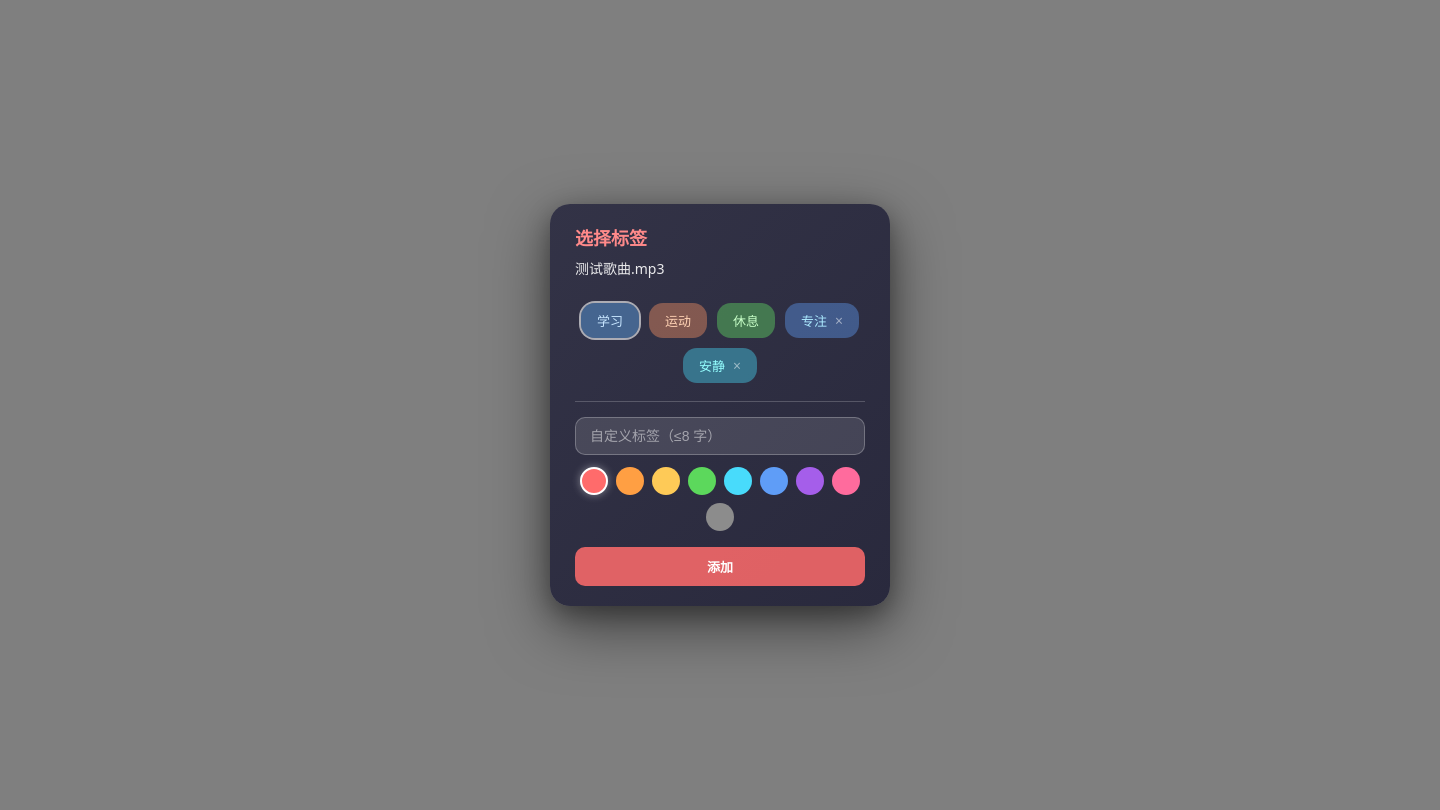
Test: MusicTagModal.vue › 自定义标签与预设/已有重名：分别给出提示
Type "学习" into the field with class "tag-custom-input".
click(720, 436); type("学习")  # box [575,417,865,455]
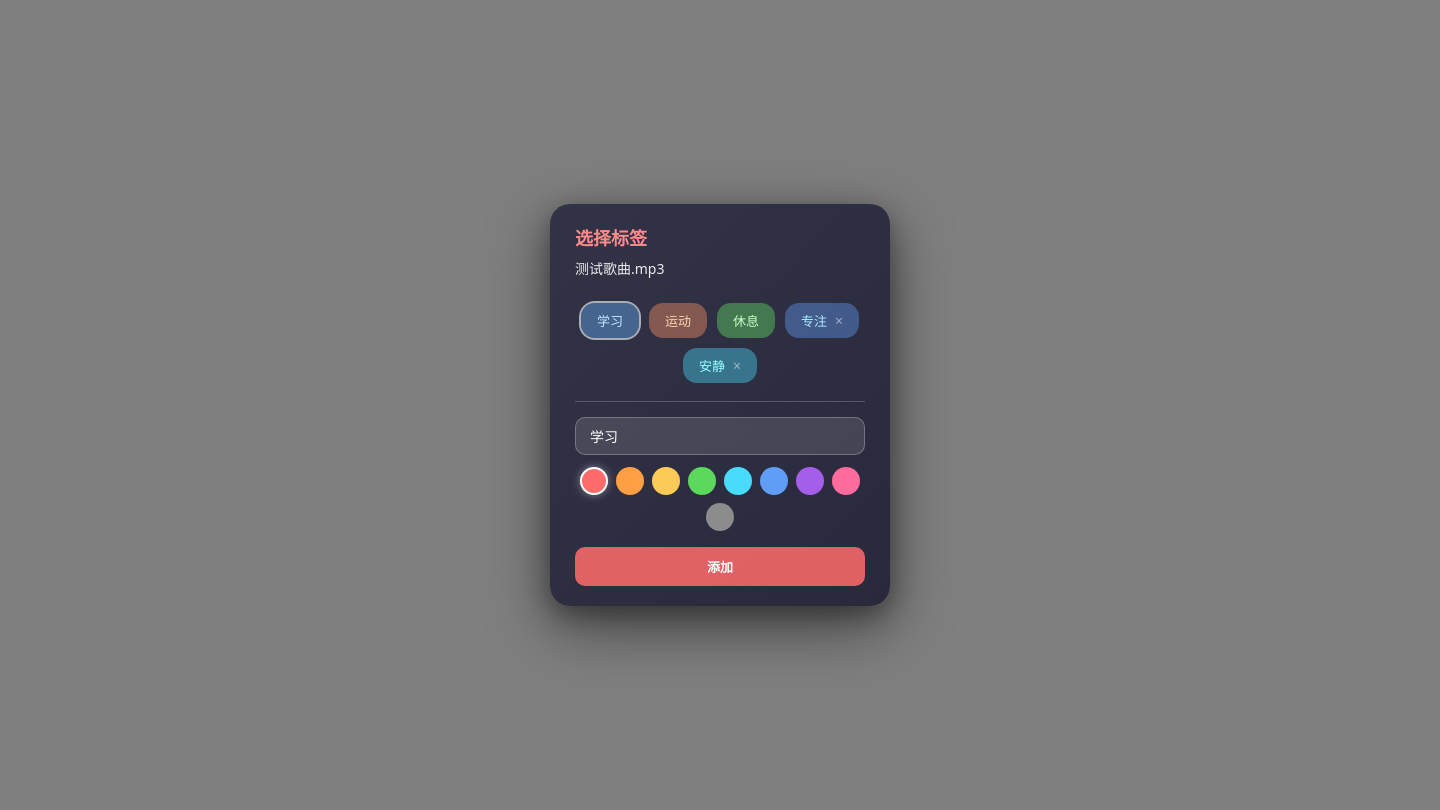
Click the button with class "tag-add-btn".
click(720, 566)  # box [575,547,865,586]
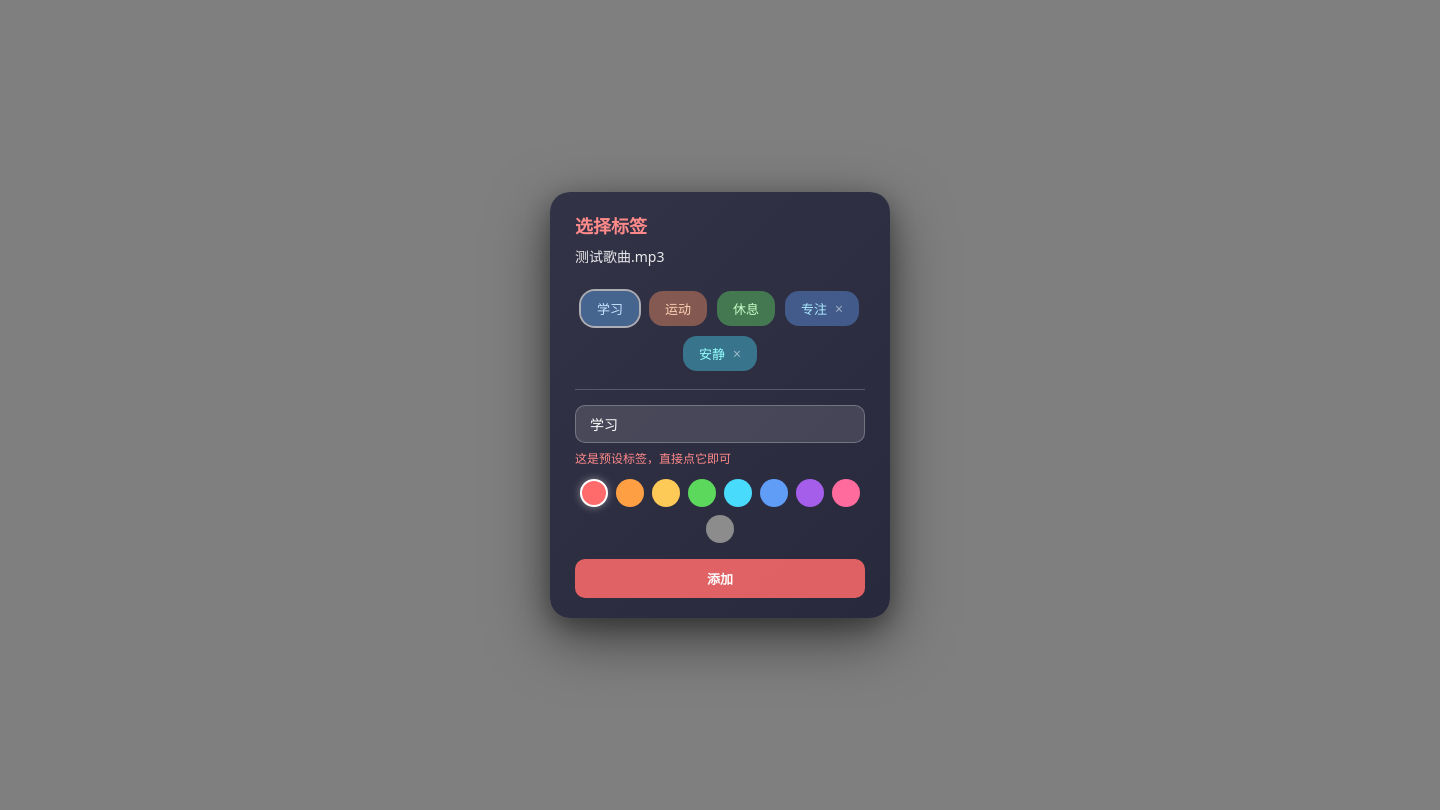
expect the text with class "tag-custom-error" shows "预设标签": met, box [575,450,731,467]
Replace the text in the field with class "tag-custom-input" with "专注" at (720, 424), box [575,405,865,443]
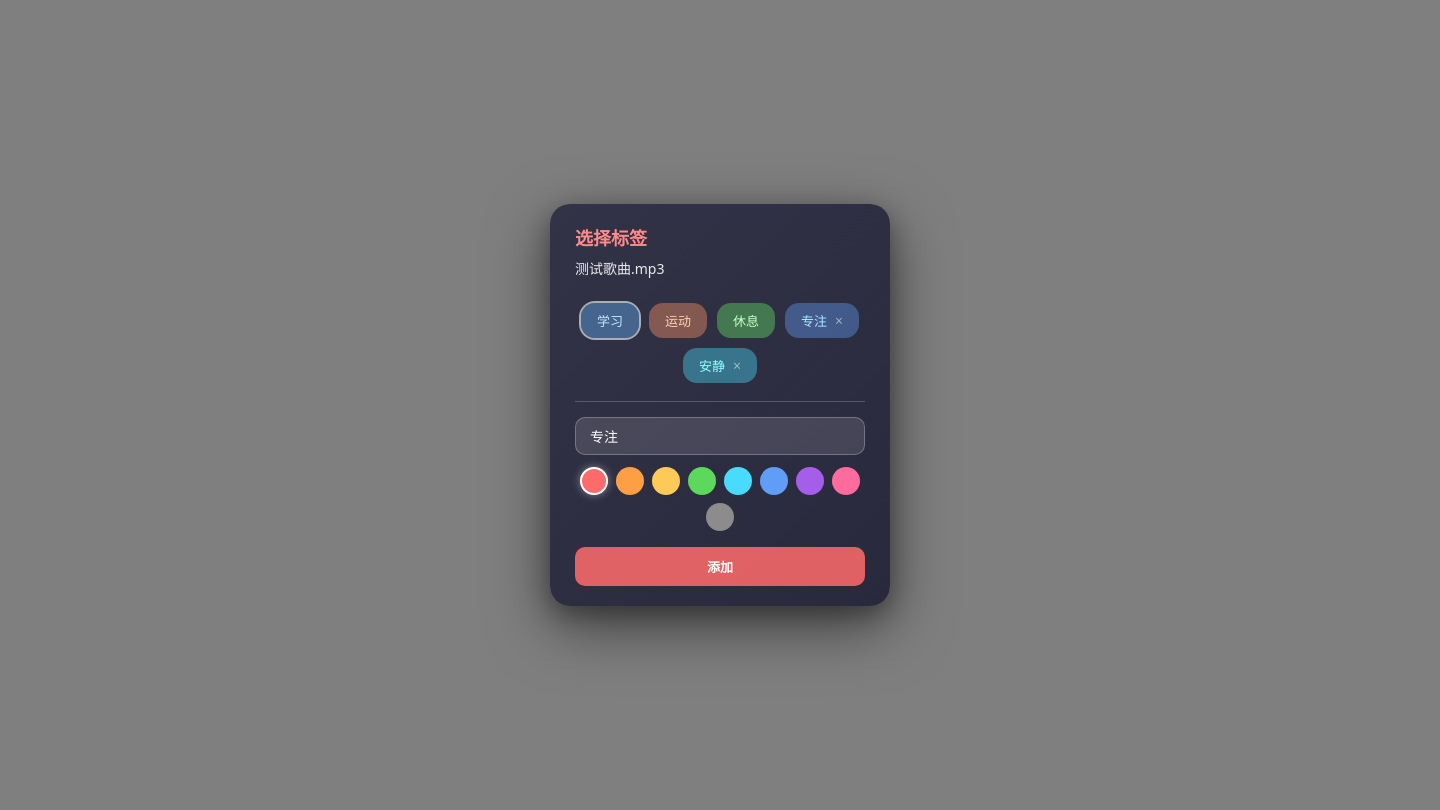
Click the button with class "tag-add-btn".
click(720, 566)  # box [575,547,865,586]
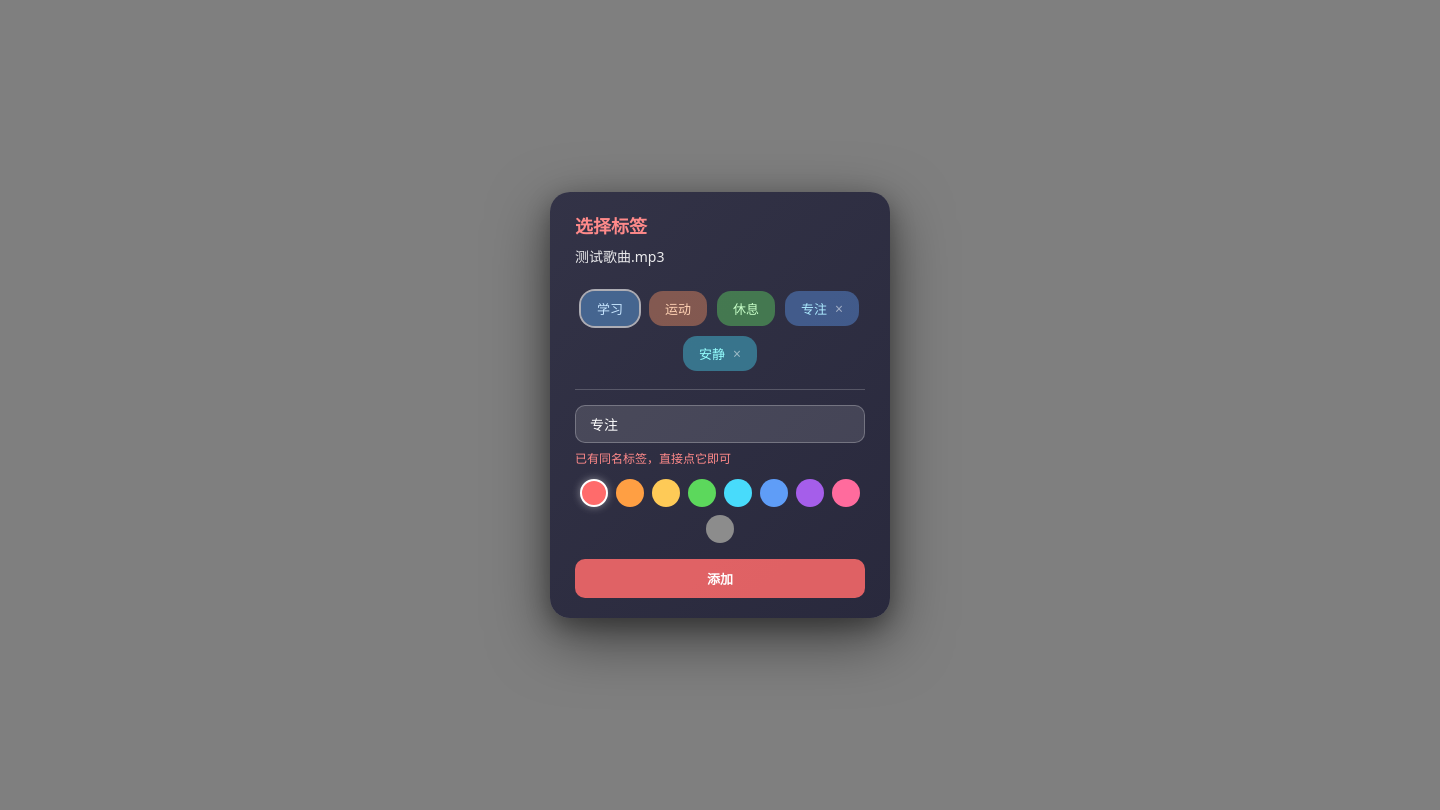
expect the text with class "tag-custom-error" shows "已有同名标签": met, box [575,450,731,467]
